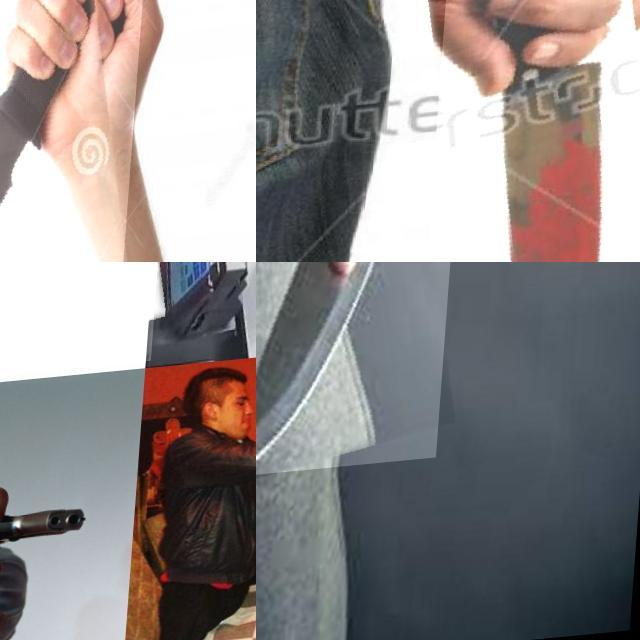-: (424, 0, 640, 262), (256, 262, 466, 486), (0, 0, 165, 262)
gun-knife-thesis - v11 Yolov5 augmented: (0, 262, 173, 418), (0, 506, 96, 553), (178, 262, 216, 282)
